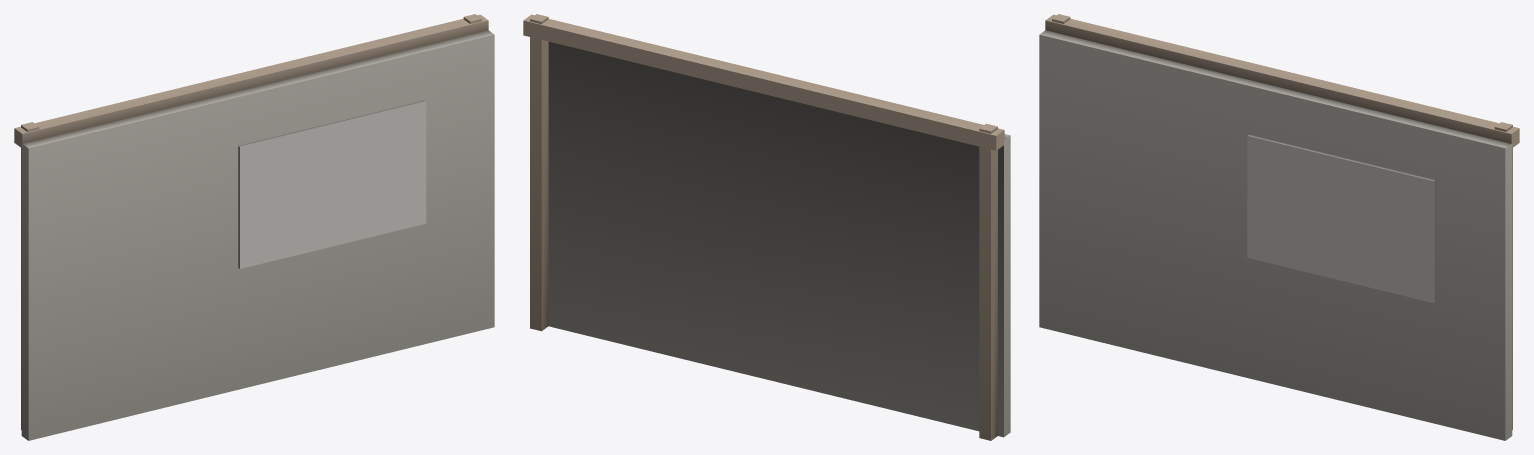
The model's file is hoarding.lod2.glb.
3 views of the same model, side by side, from view 1: azimuth 30°, elevation 25°; view 2: azimuth 150°, elevation 25°; view 3: azimuth 330°, elevation 25° (orthographic).
Parts seen in each view (by area): view 1: props_hoarding.lod2; view 2: props_hoarding.lod2; view 3: props_hoarding.lod2.
Part boxes in pixels (x1,y1,x2,y2): props_hoarding.lod2: (14, 14, 494, 440); props_hoarding.lod2: (523, 14, 1010, 440); props_hoarding.lod2: (1039, 14, 1519, 440).
Size of the model in its own units: 4 by 2.5 by 0.235.
